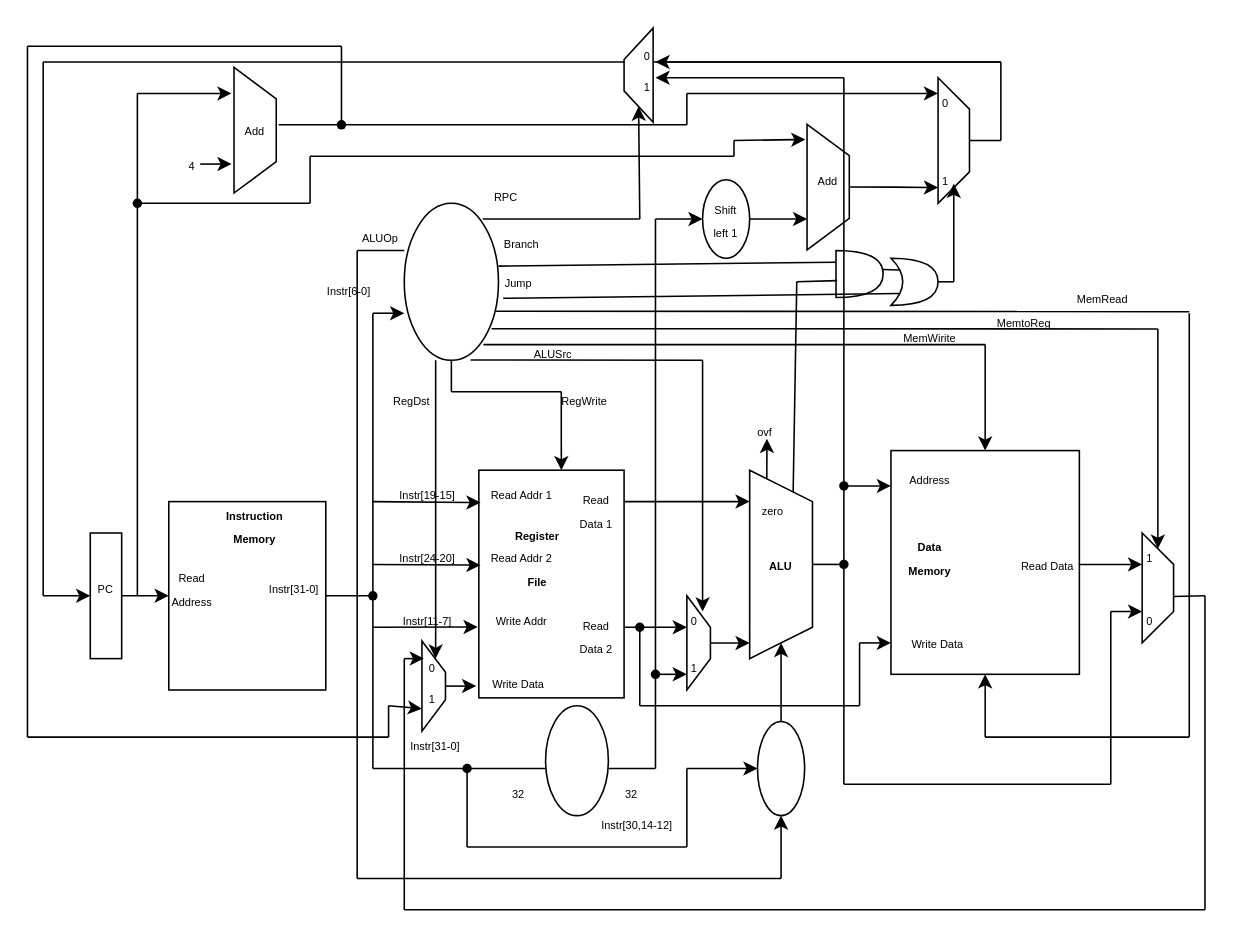
Image size: 1234x939. Some labels were removed from this diagram. The shapes that lost their labels are listed below. From the top down, each one's centre as x and y in pixels, then its label:
At pixel 450 281: "Control Unit".
At pixel 576 760: "Imm Gen".
At pixel 780 768: "ALU control".
